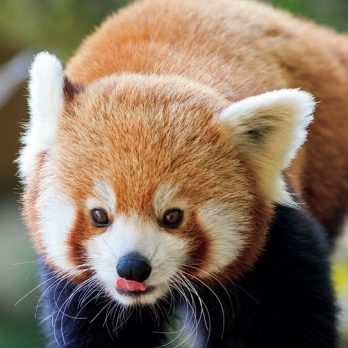Red panda: (19, 49, 321, 311)
